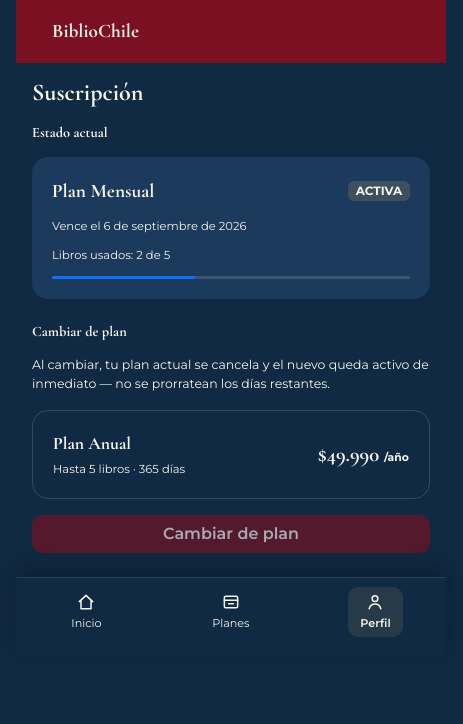
Scenario: Subscription › muestra el error del backend si el plan elegido ya no existe (404)
The image size is (463, 724).
Click the text "Plan Anual" at [92, 443], box [53,433,131,454]
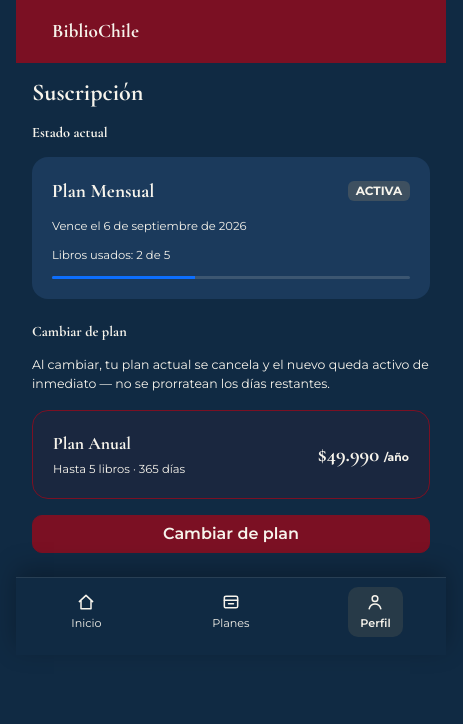
Click the button "Cambiar de plan" at [231, 534], box [32,515,430,553]
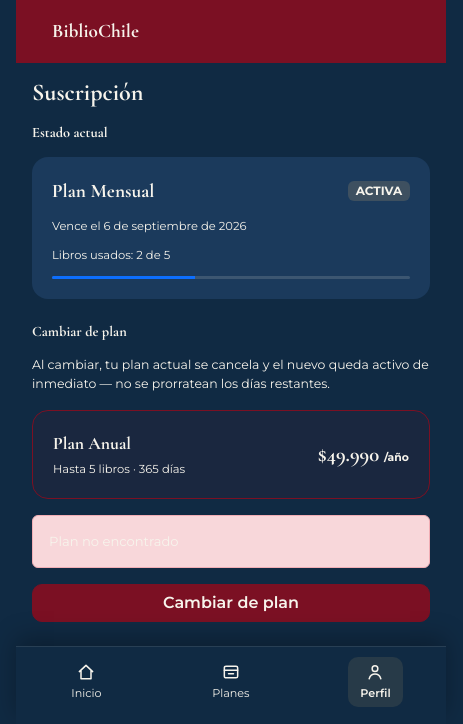
Now the text "Plan no encontrado" is shown, box [32,515,430,568]
